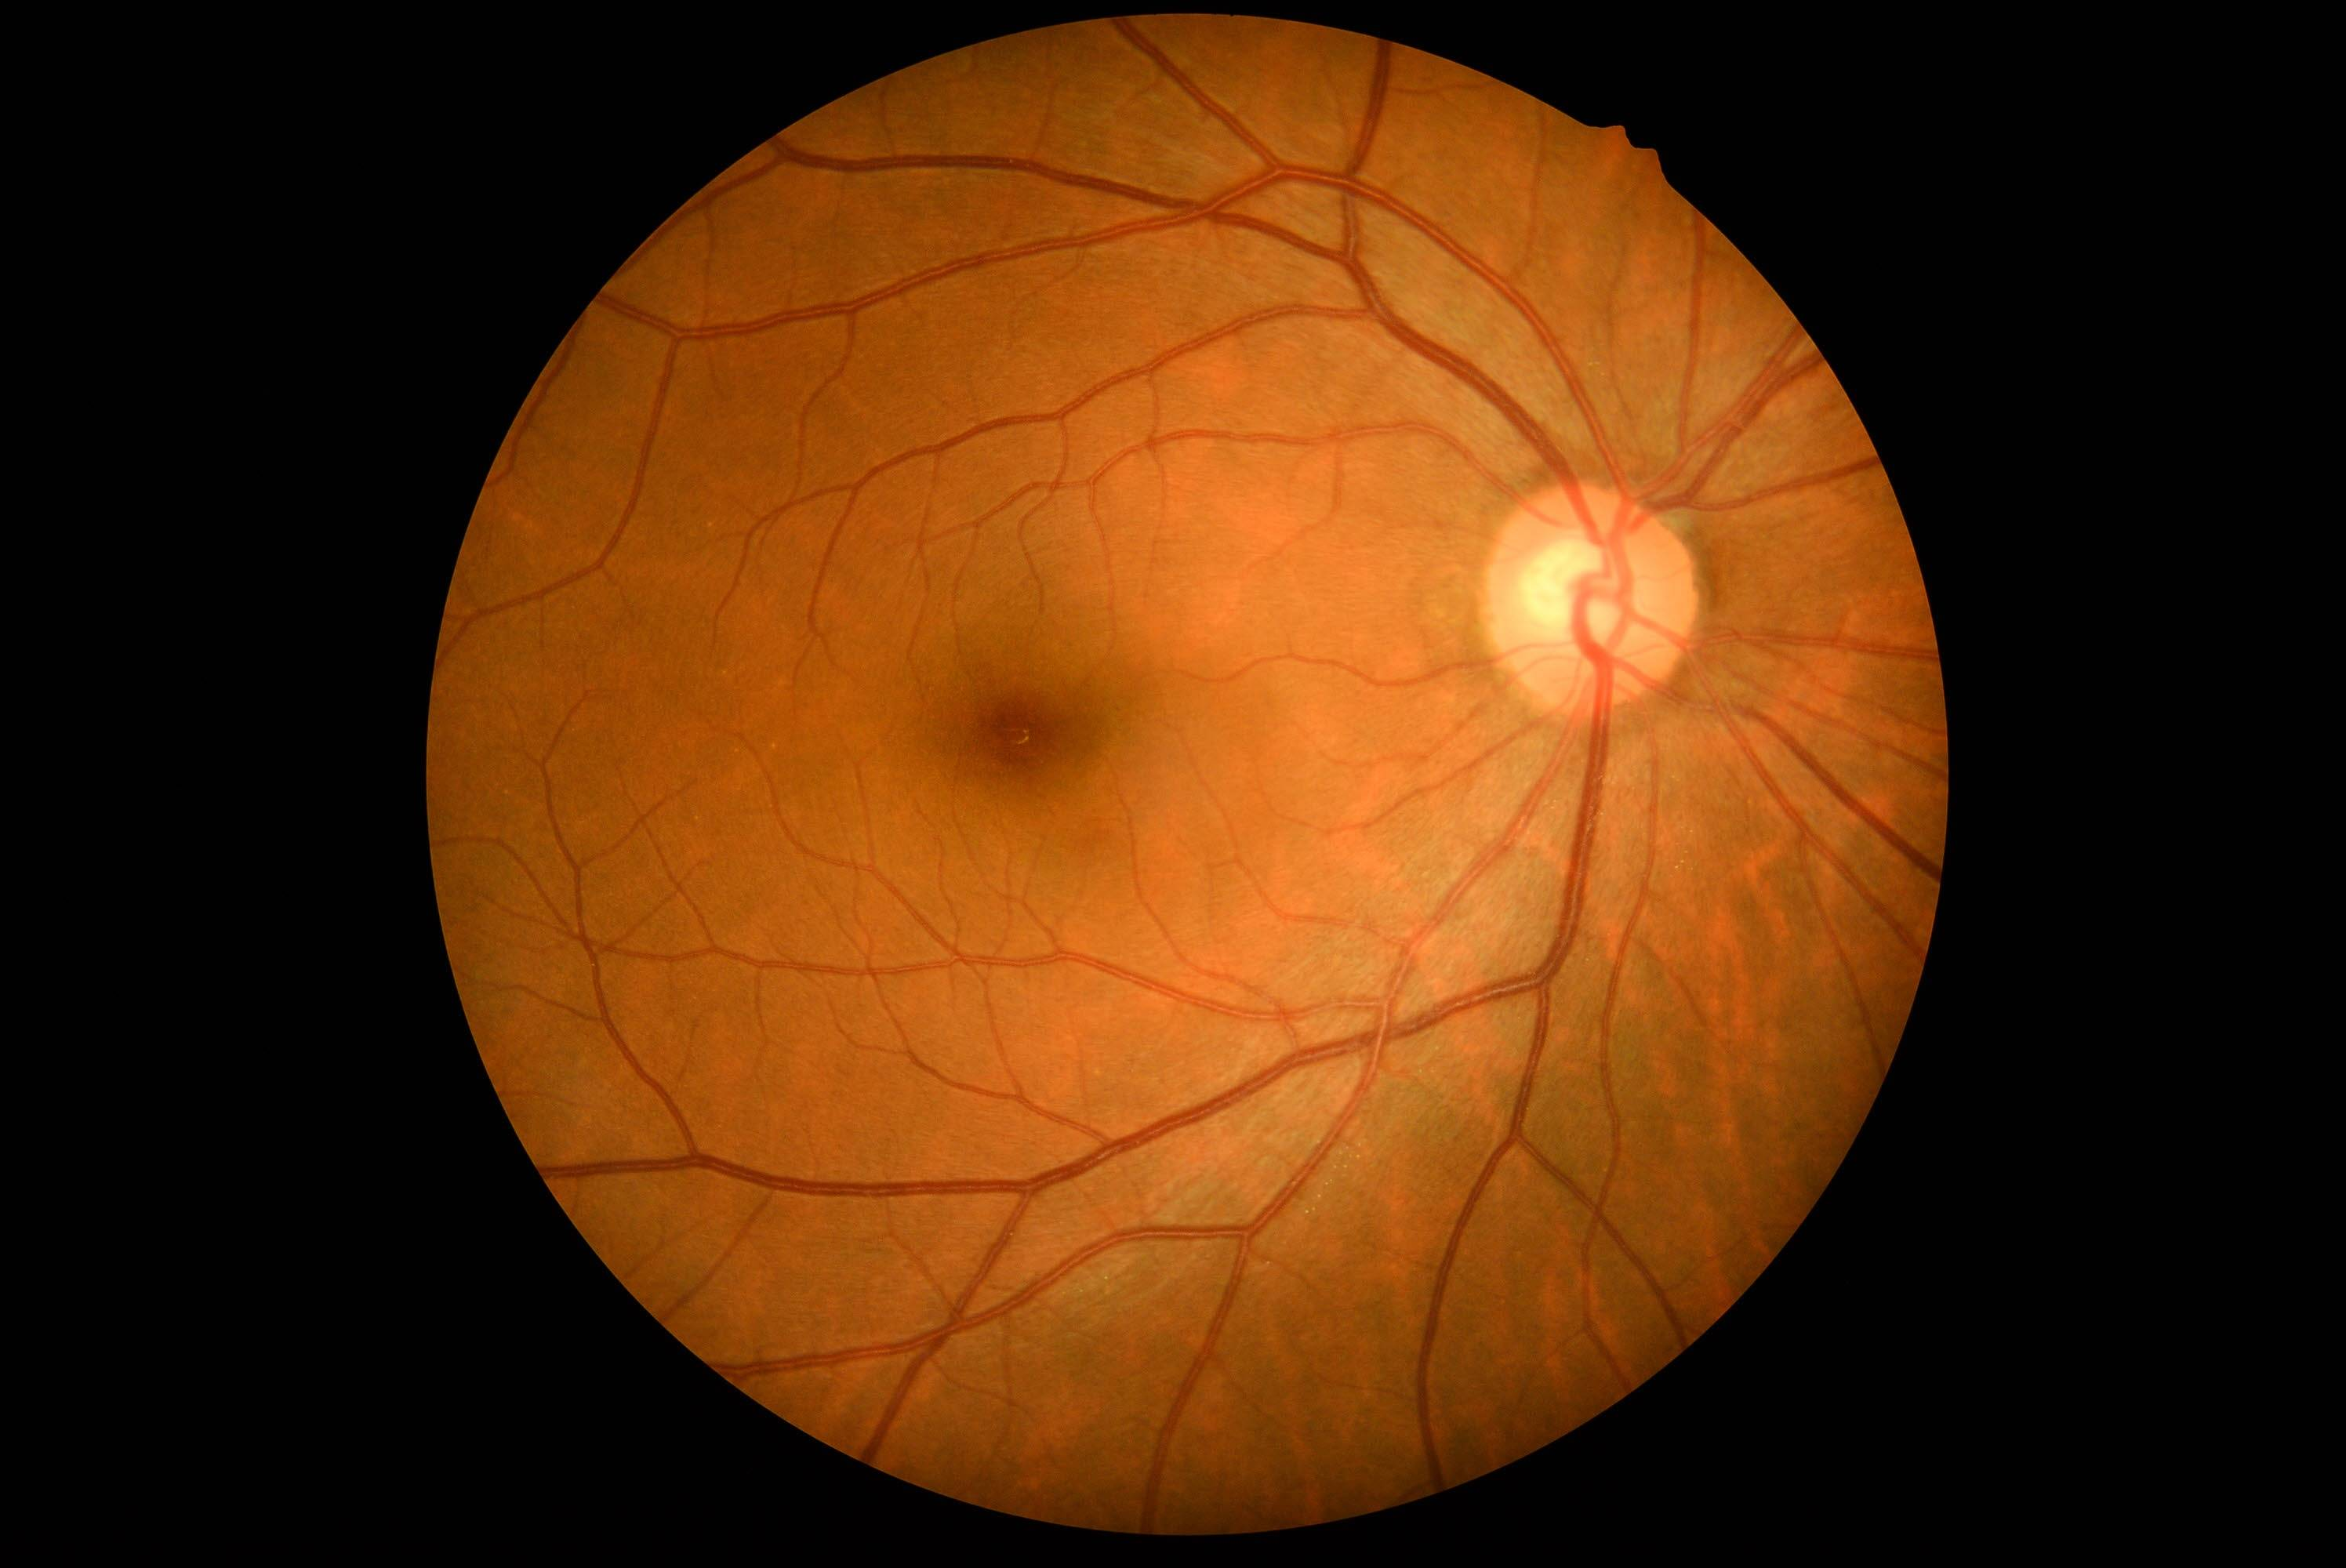Fovea: (945, 658, 1093, 803)
